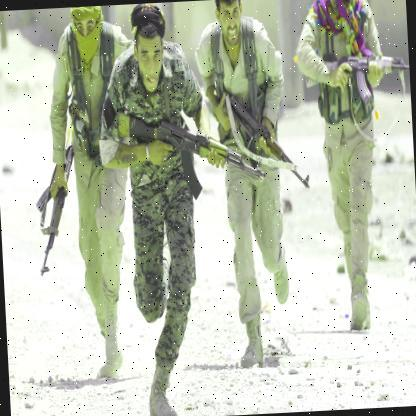rifle: (114, 95, 271, 201), (224, 88, 309, 194), (25, 134, 84, 280), (311, 48, 411, 119)
